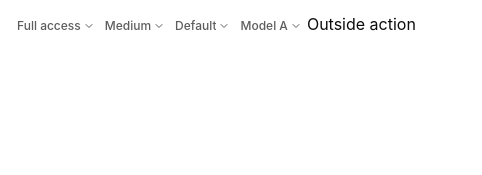
Test: composer selector handoff and motion › opens the next menu on the first click, without blocking the control row
Click the button with aria-label "Access: Full access" at {"x": 56, "y": 26}, box [12, 14, 100, 38]
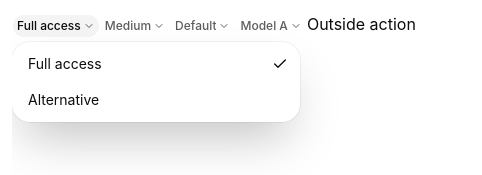
Check: the button with aria-label "Access: Full access" is expanded, box [12, 14, 100, 38]
Check: the number of menus is 1, box [12, 42, 300, 122]
Click the button with aria-label "Reasoning: Medium" at {"x": 135, "y": 26}, box [100, 14, 170, 38]
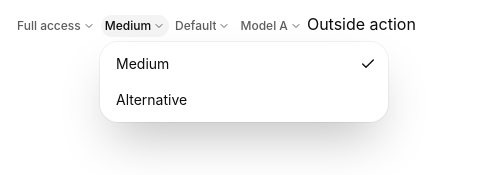
Check: the number of menus is 1, box [100, 42, 388, 122]
Check: the button with aria-label "Reasoning: Medium" is expanded, box [100, 14, 170, 38]
Click the button with aria-label "Mode: Default" at {"x": 203, "y": 26}, box [170, 14, 236, 38]
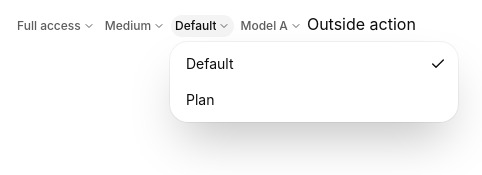
Check: the number of menus is 1, box [170, 42, 458, 122]
Check: the button with aria-label "Mode: Default" is expanded, box [170, 14, 236, 38]
Click the button with aria-label "Access: Full access" at {"x": 56, "y": 26}, box [12, 14, 100, 38]
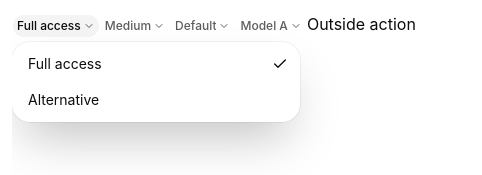
Check: the number of menus is 1, box [12, 42, 300, 122]
Check: the button with aria-label "Access: Full access" is expanded, box [12, 14, 100, 38]
Click the menu item "Alternative" at {"x": 64, "y": 100}, box [28, 91, 99, 108]
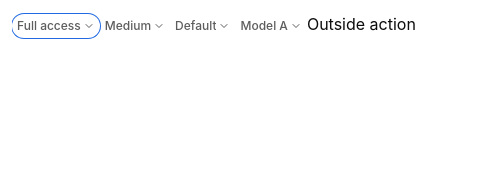
Check: the button with aria-label "Access: Full access" is collapsed, box [12, 14, 100, 38]
